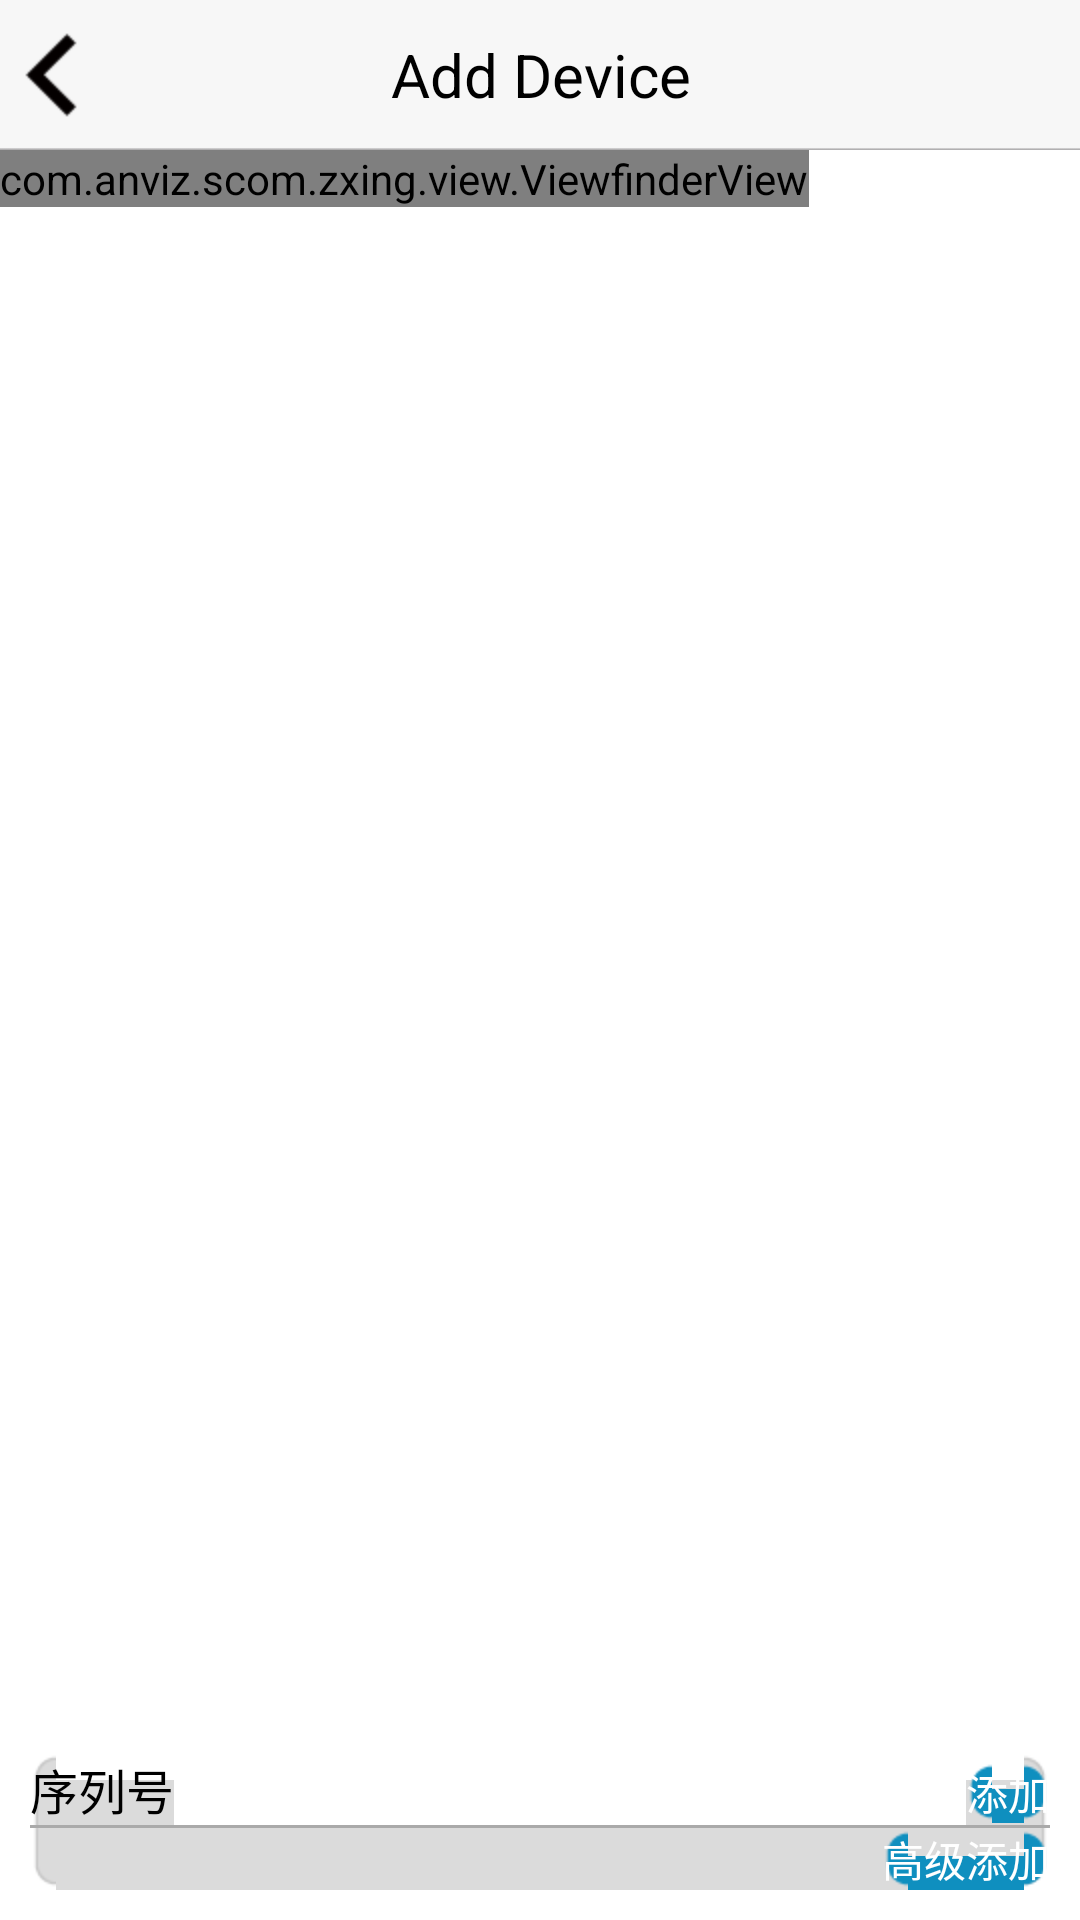

Named icons in this screenshot (1080 × 1920) and their bounding boxes, [x1=x1, y1=y1, x2=x2, y2=y2]:
back: [x1=25, y1=33, x2=77, y2=117]
